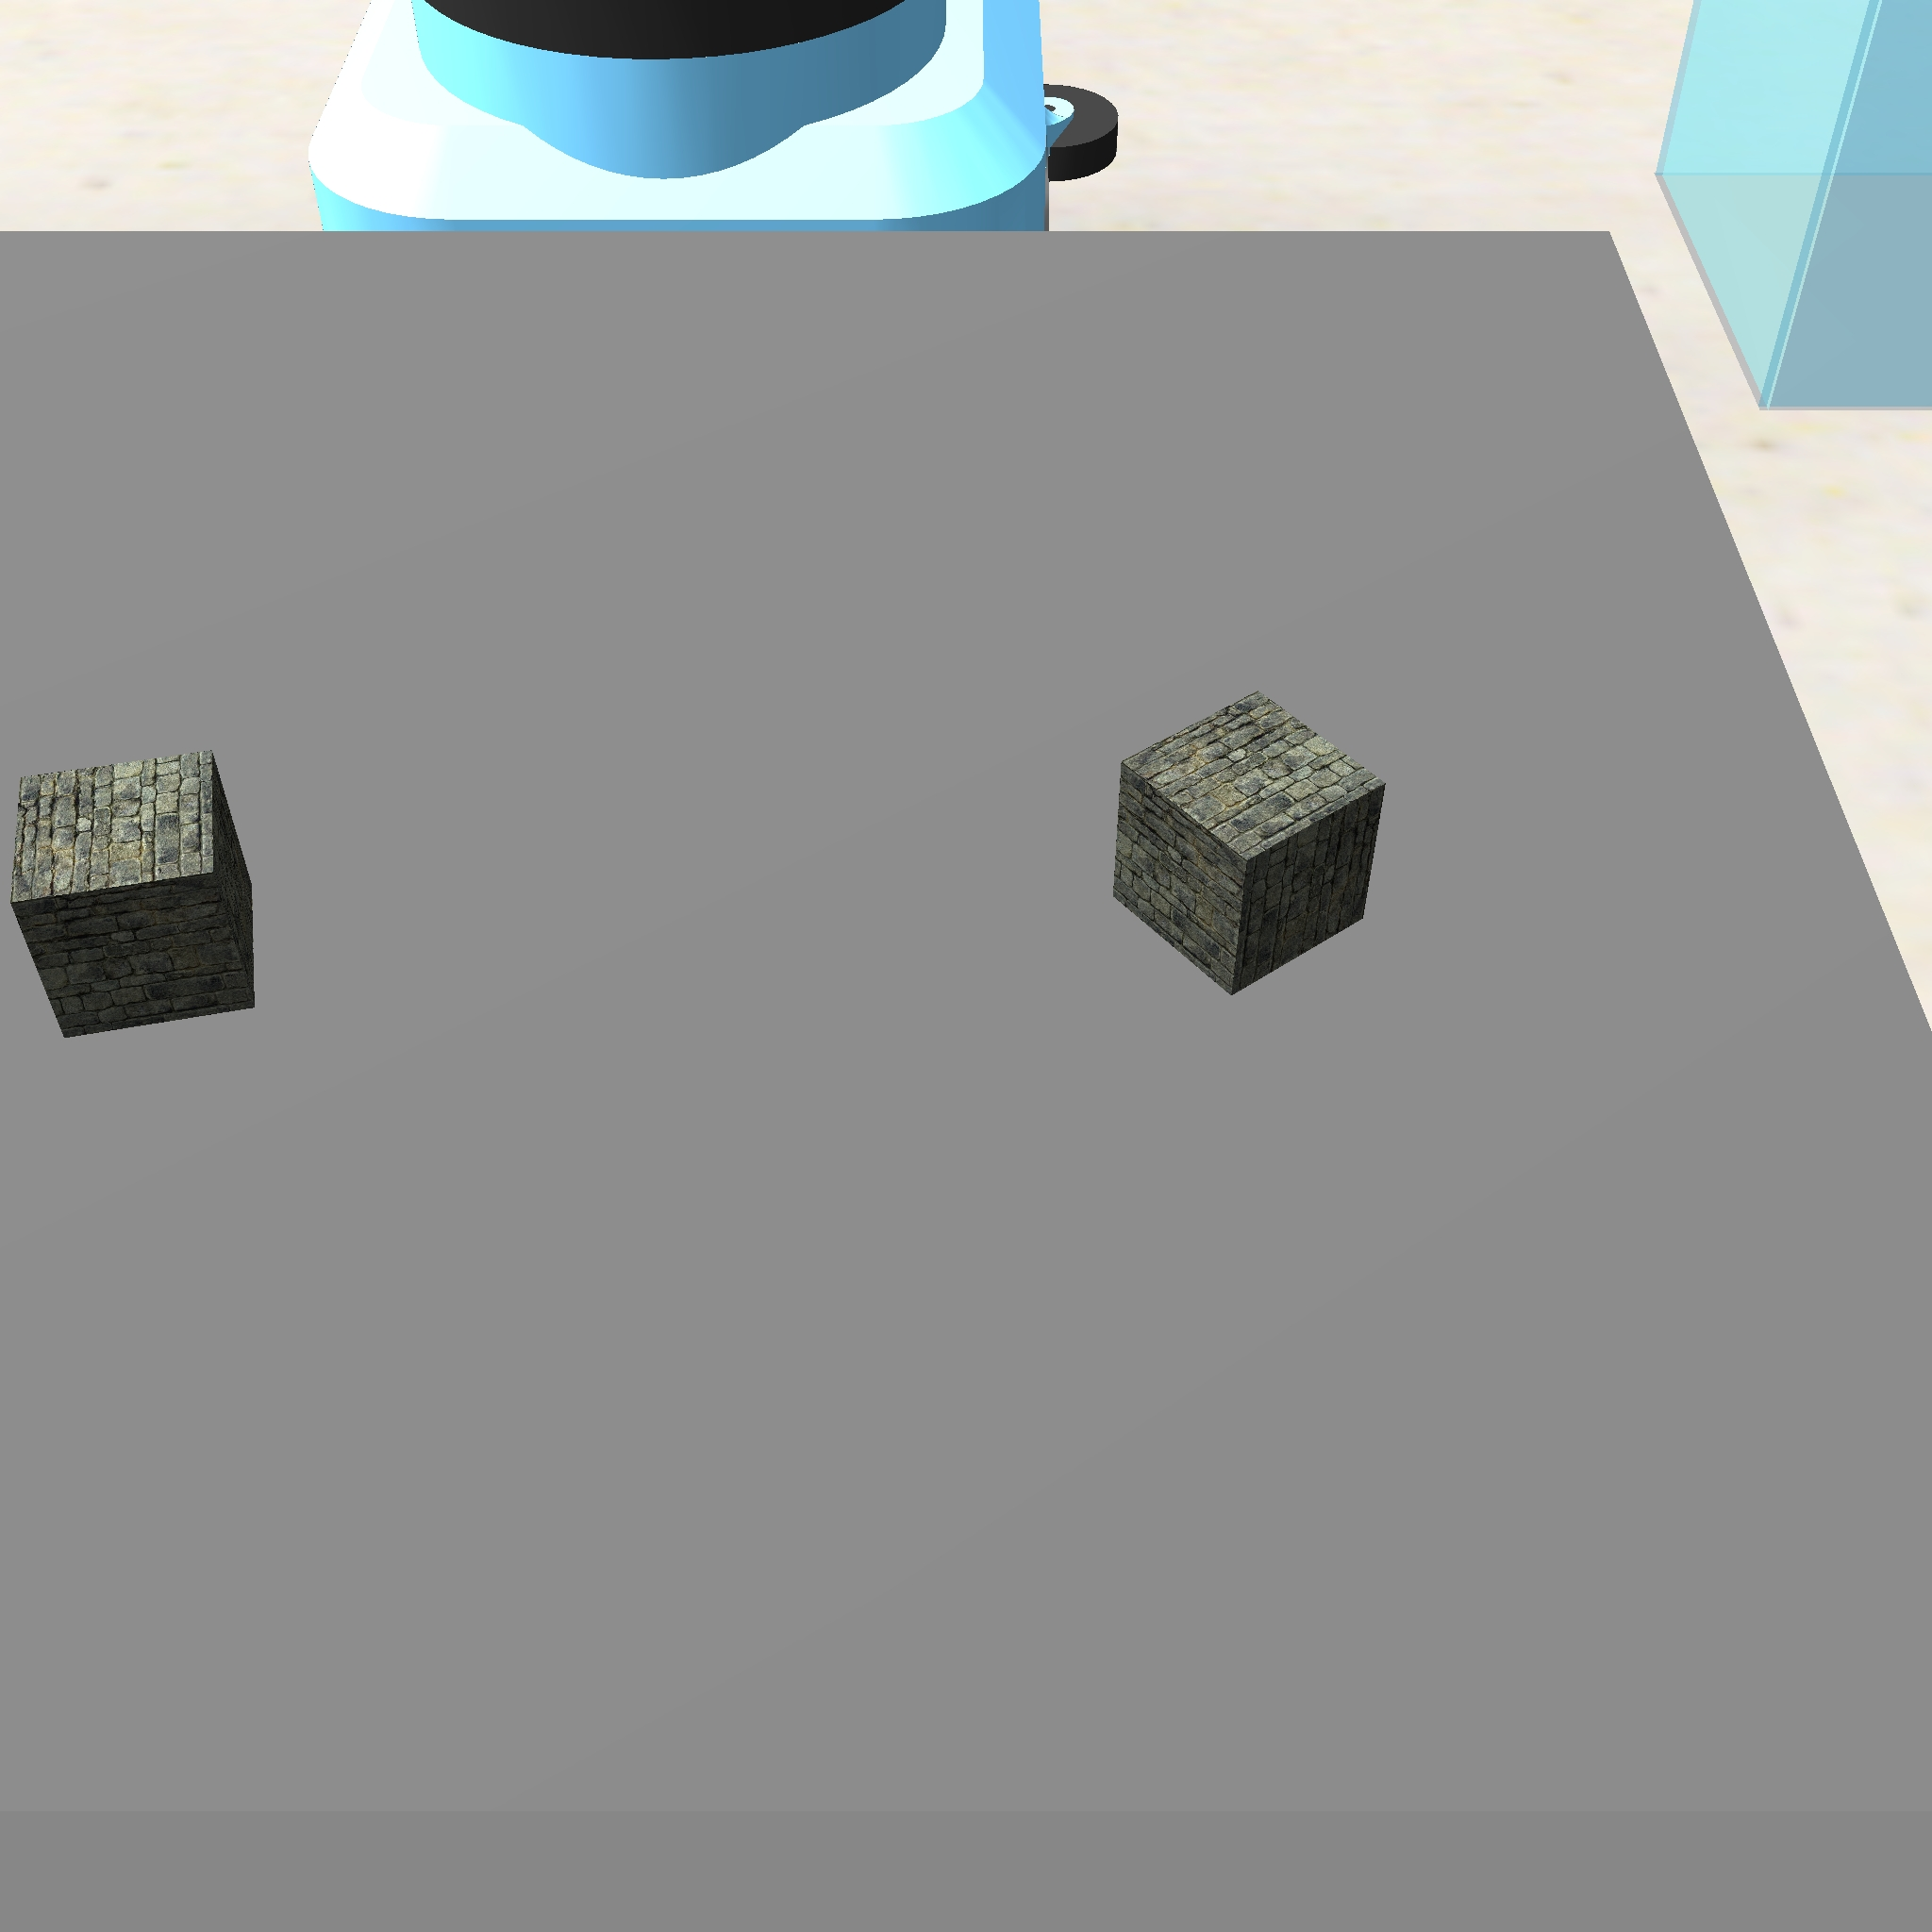cube: (1104, 685, 1391, 1000), (5, 740, 265, 1046)
